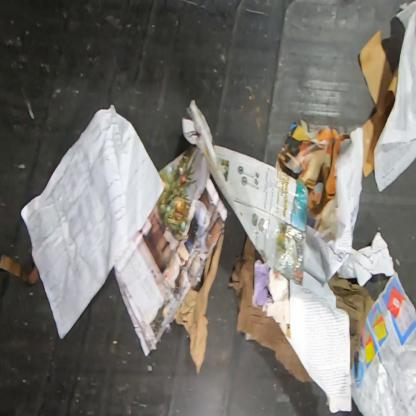cardboard: (181, 101, 308, 287), (228, 235, 314, 384), (360, 29, 398, 180), (327, 270, 375, 370)
